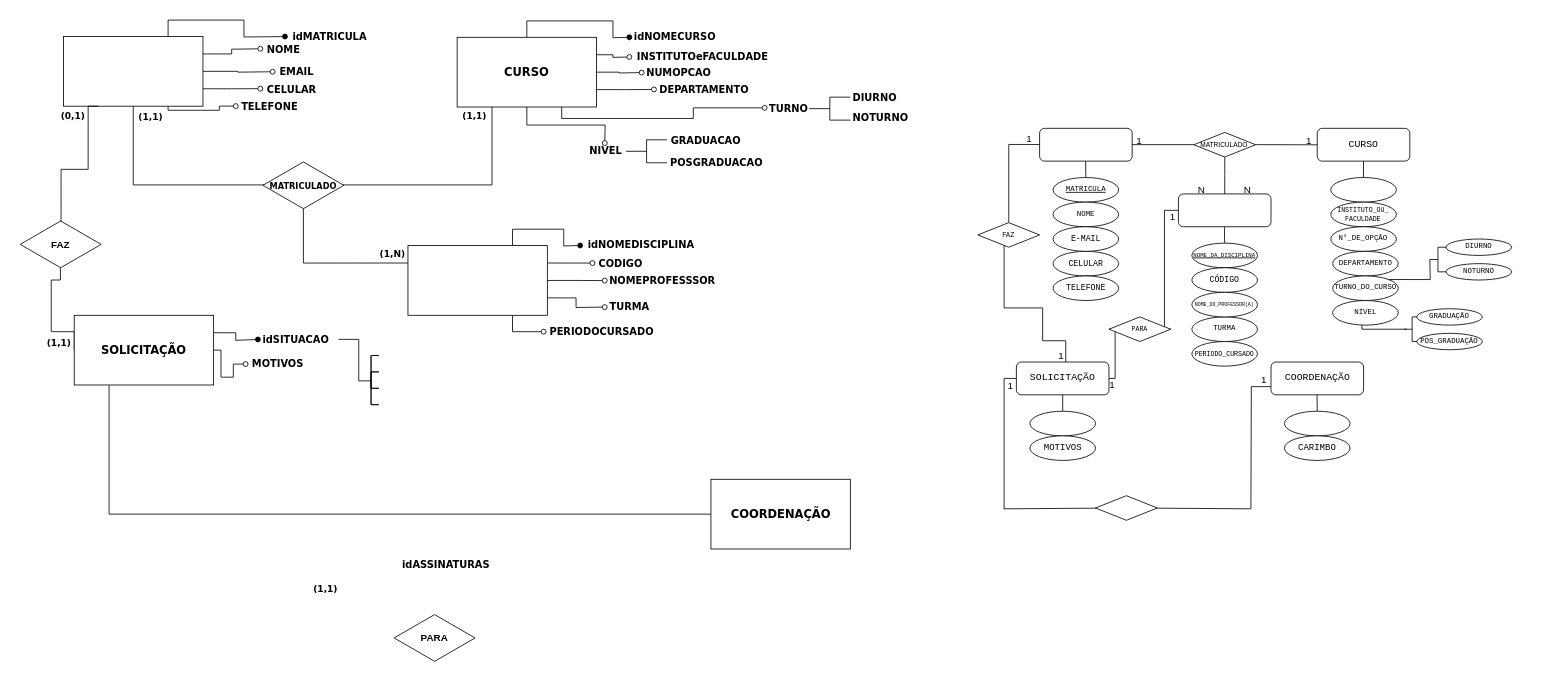
The diagram is 1559 pixels wide and 676 high, and some of its shapes have lost their labels. The centre of each missing label's shape, as x and y in pixels:
"ASS.INTERESSADOS" belongs at point (1317, 423).
"DISCENTE" belongs at point (133, 71).
"DISCIPLINA" belongs at point (477, 280).
"NOME_DO_CURSO" belongs at point (1363, 189).
"PROCESSA" belongs at point (1126, 507).
"SITUAÇÃO" belongs at point (1062, 423).
